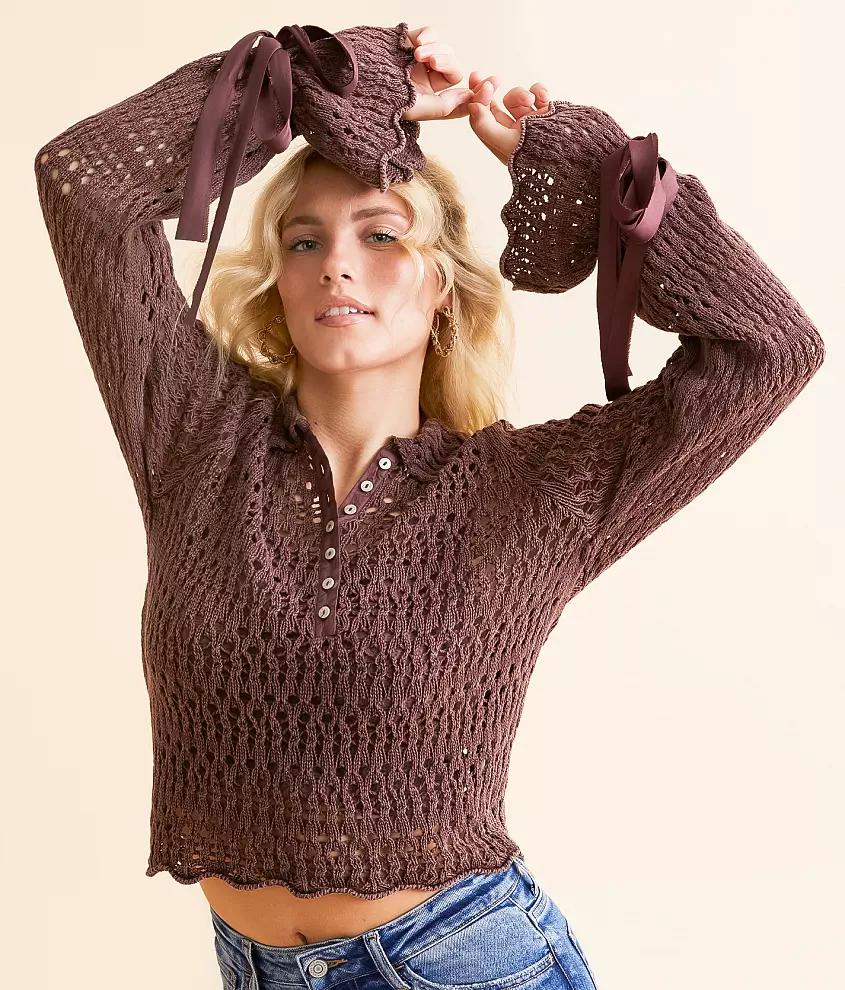long sleeve shirt: (33, 21, 829, 897)
trousers: (190, 860, 597, 990)
